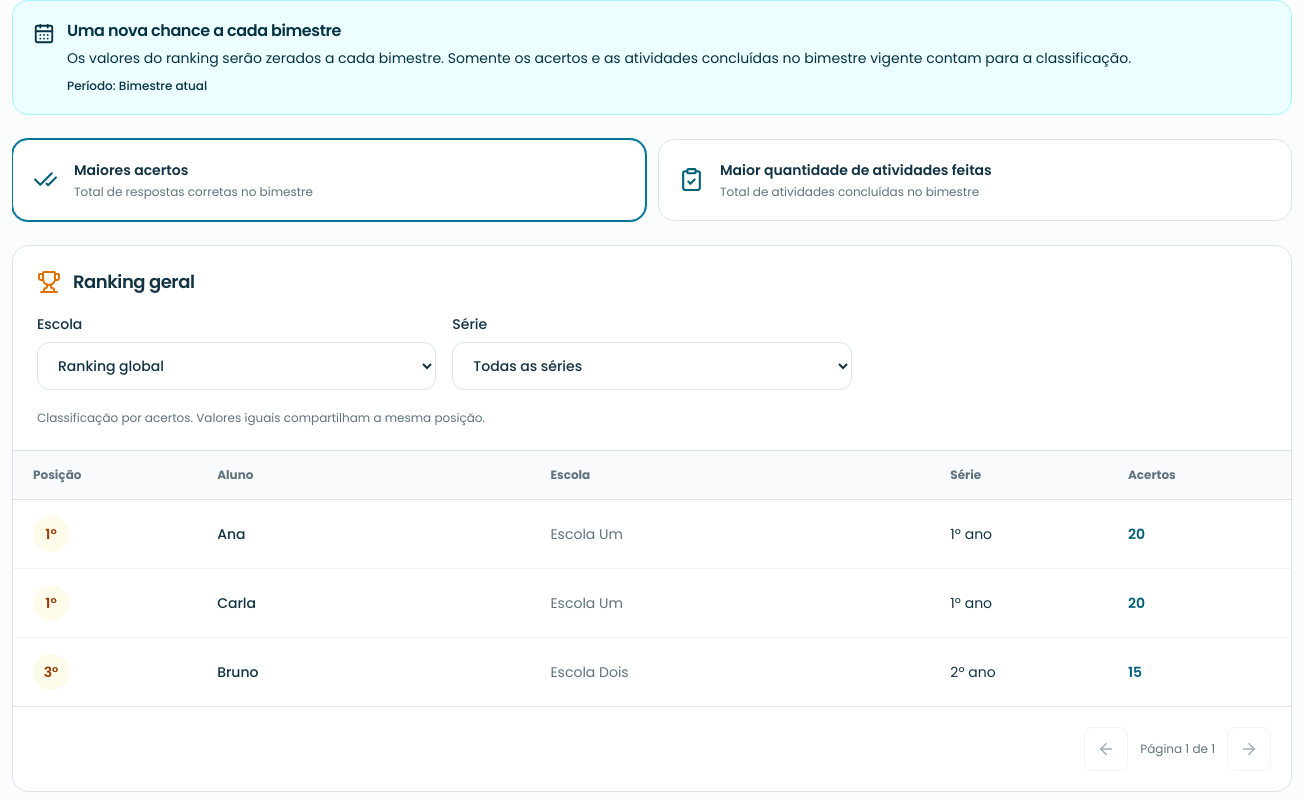
it: mostra ranking geral e permite trocar categoria e filtrar por escola e série
Check: the table is shown, box [13,450,1291,706]
Check: the text "Os valores do ranking serão zerados a cada bimestre" is shown, box [67,48,1131,68]
Click the button "Maior quantidade de atividades feitas".
click(975, 180)  # box [658,139,1292,221]
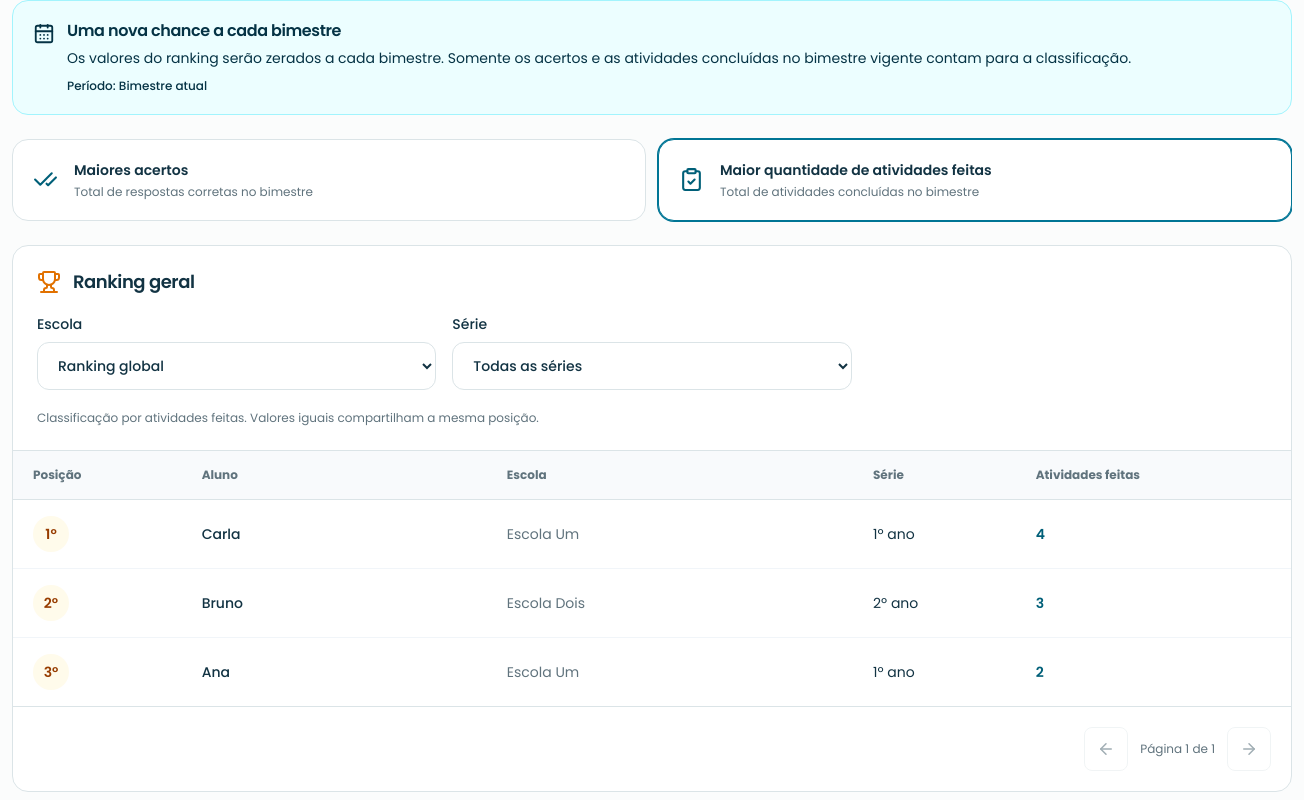
Check: the column heading "Carla" is shown, box [182,500,487,568]
Select "Escola Dois" in the dropdown labelled "Escola" at (237, 366), box [37,342,436,390]
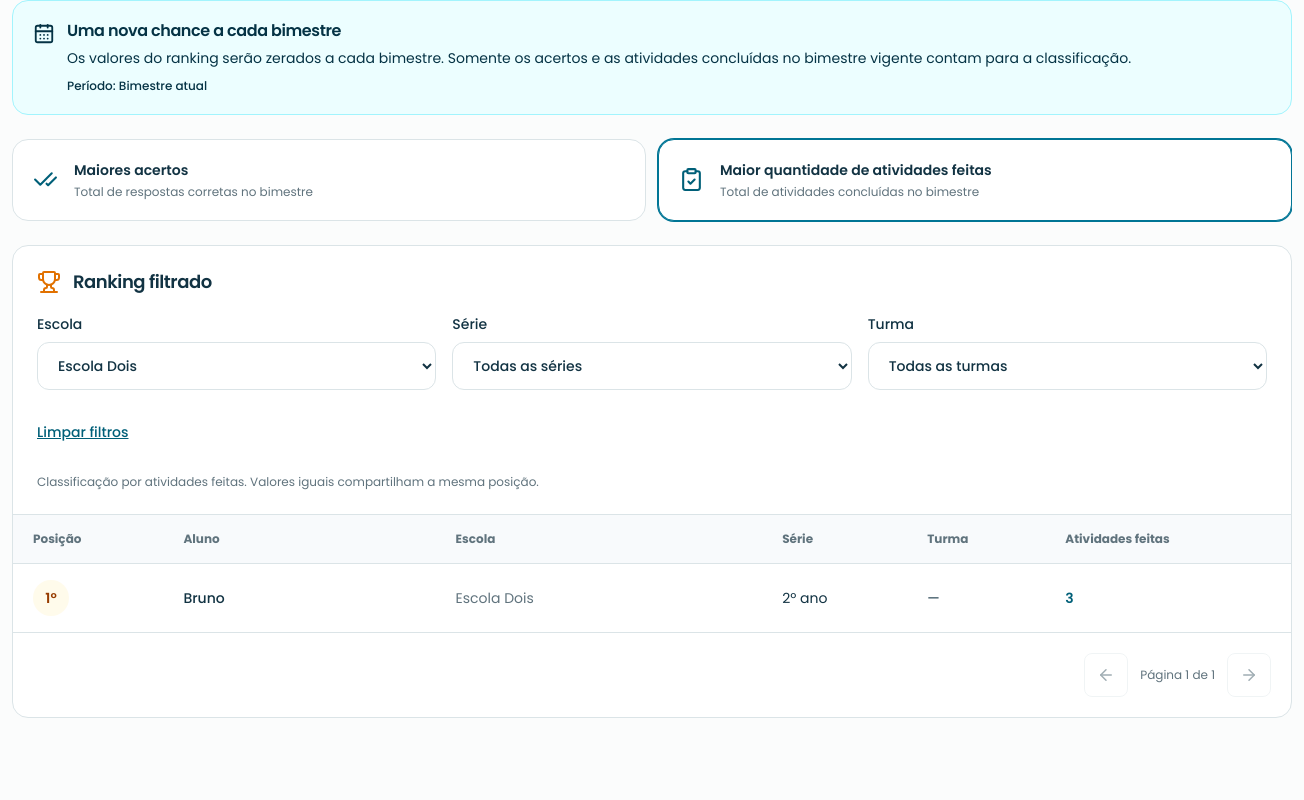
Check: the column heading "Bruno" is shown, box [163,564,436,632]
Check: the column heading "Ana" is gone
Select "1º ano" in the dropdown labelled "Série" at (652, 366), box [452,342,852,390]
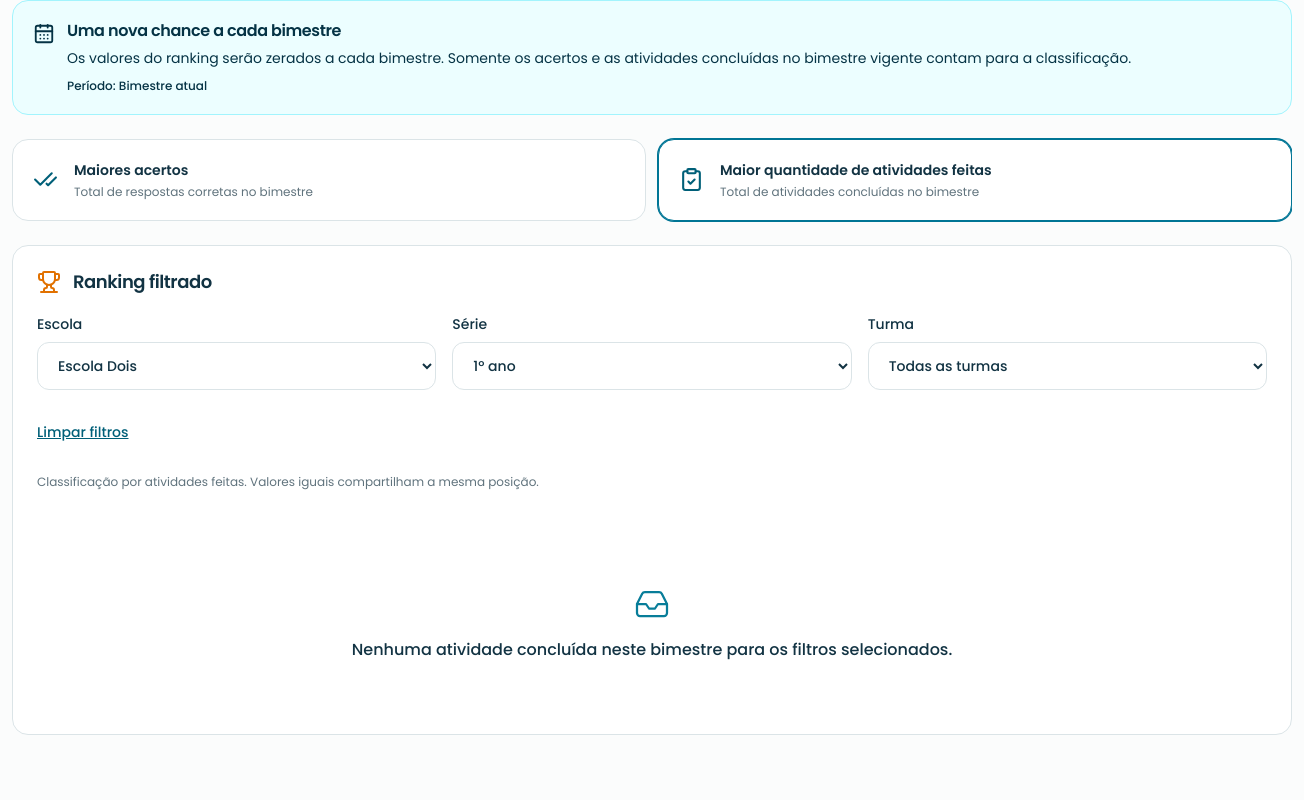
Check: the text "Nenhuma atividade concluída" is shown, box [352,638,952,661]
Click the button "Limpar filtros".
click(83, 432)  # box [37,410,128,454]
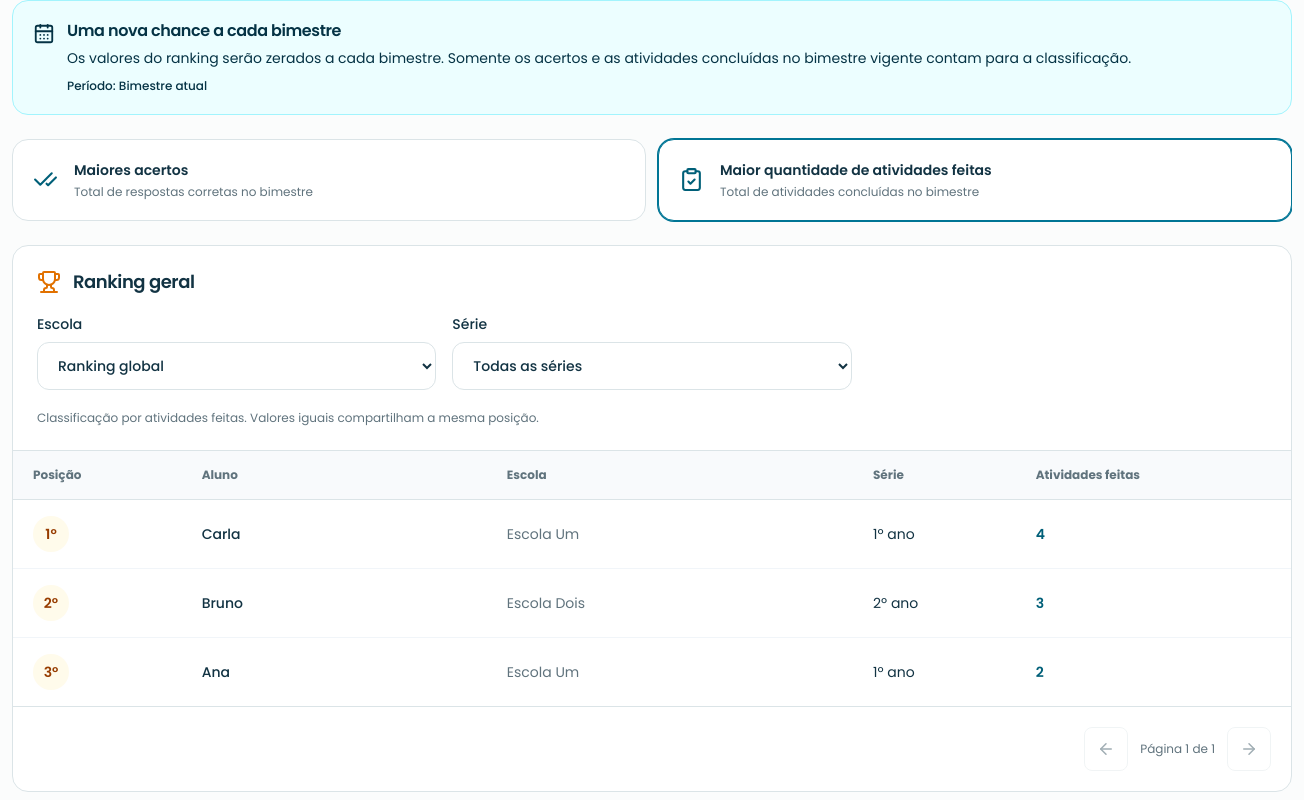
Check: the column heading "Ana" is shown, box [182,637,487,706]
